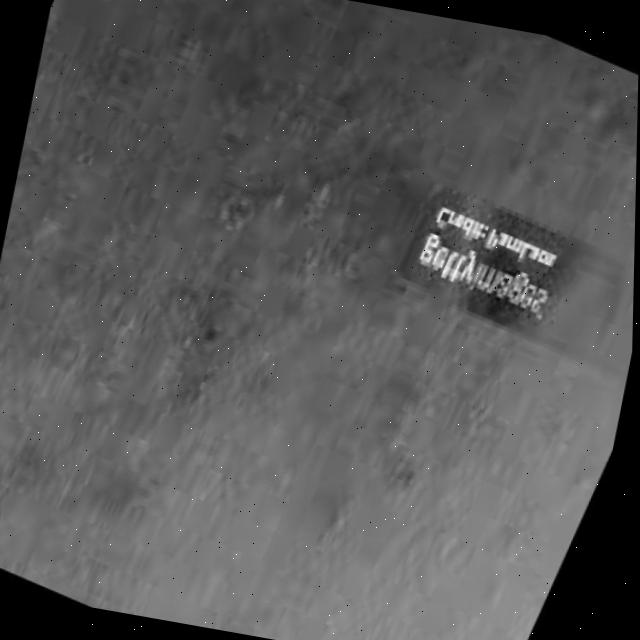Eczema: (170, 22, 541, 448)
